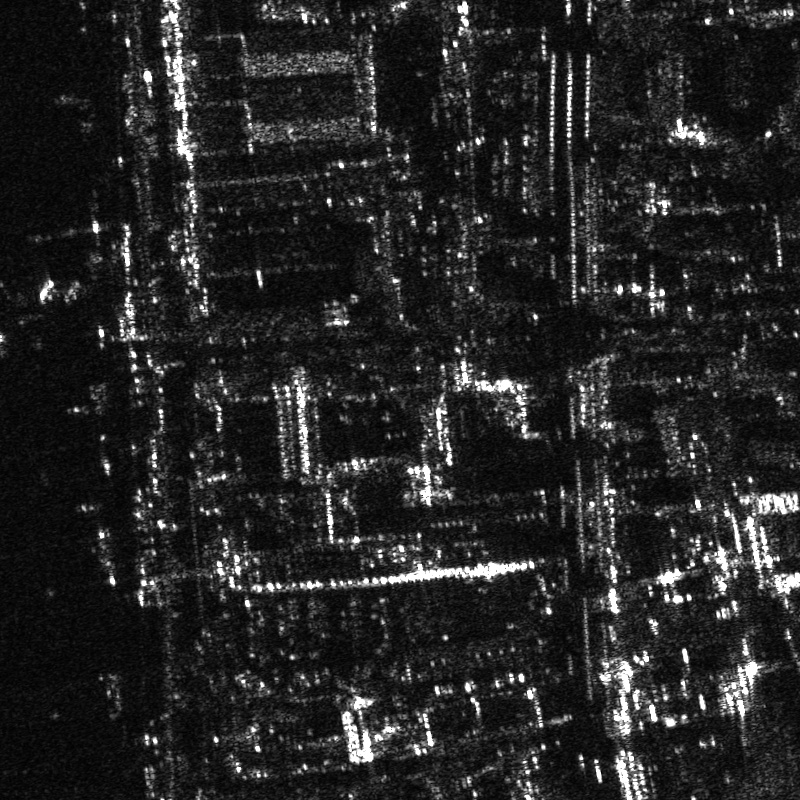A320/321: (29, 191, 118, 258)
